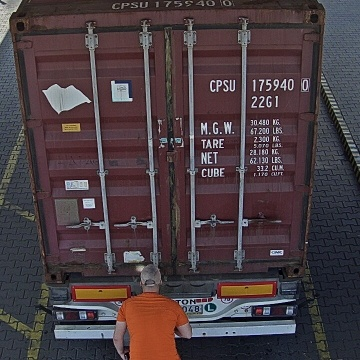serial_id: (210, 78, 309, 91)
